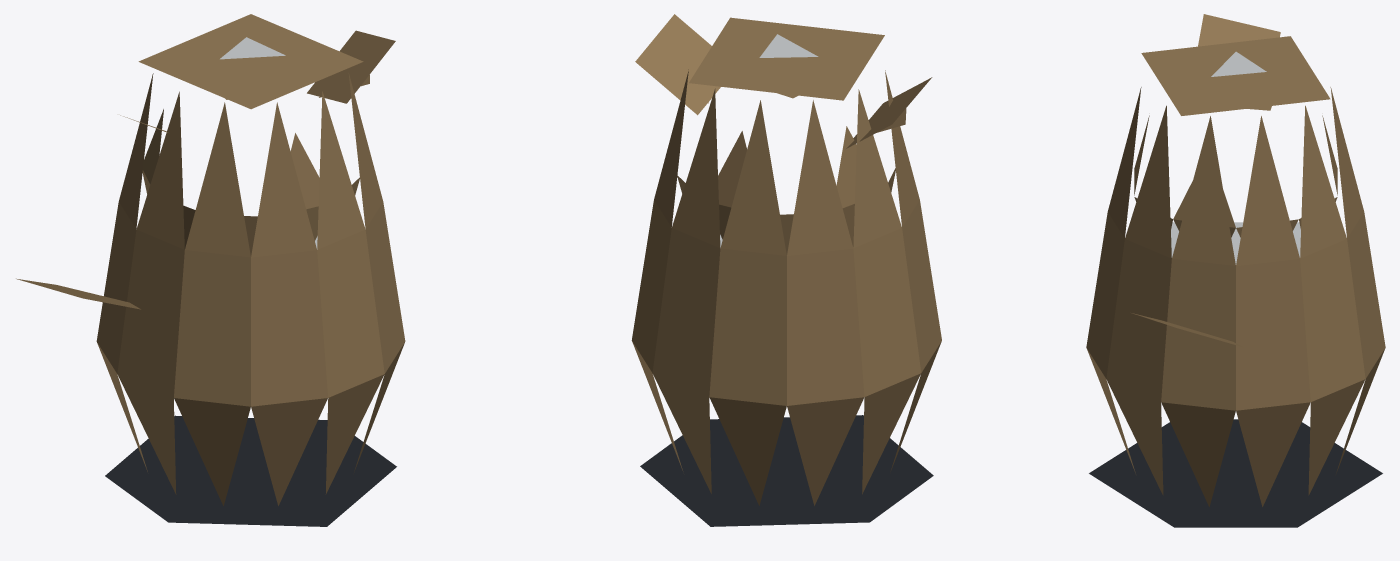
File: jedi-knight-robe.lod.glb
3 renders of one model, left to right at view 1: azimuth 30°, elevation 25°; view 2: azimuth 150°, elevation 25°; view 3: azimuth 270°, elevation 25°, orthographic. The views are drawn at different scales.
Visible parts, largest first — view 1: m; view 2: m; view 3: m.
Boxes of the visible parts, <box> form: m: <box>16,14,405,526</box>; m: <box>631,14,941,526</box>; m: <box>1086,14,1385,527</box>.
Size of the model in its own units: 0.4658 by 0.4107 by 0.2613.
